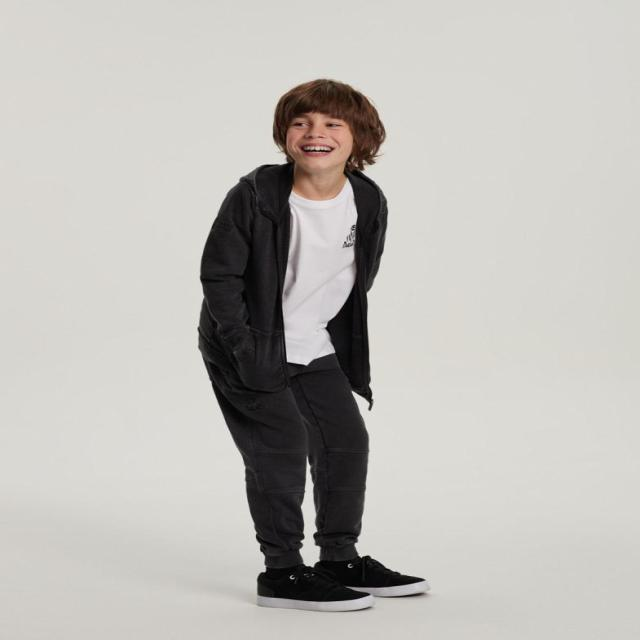child: (188, 75, 436, 610)
